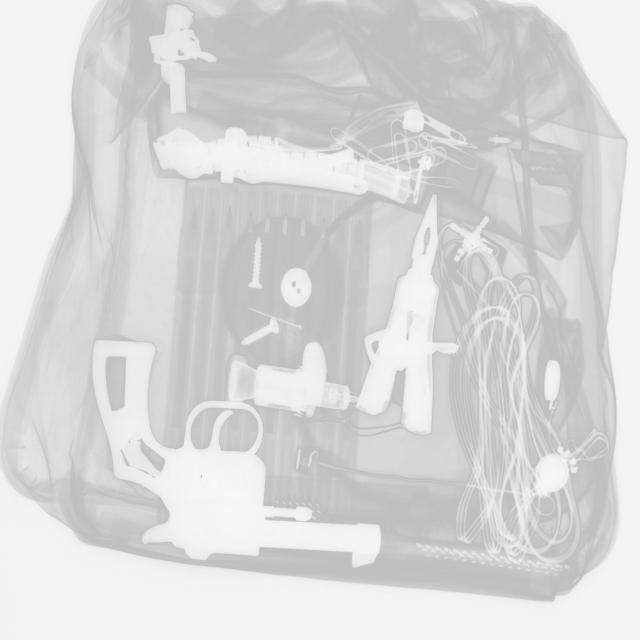pistol: (91, 338, 384, 568)
